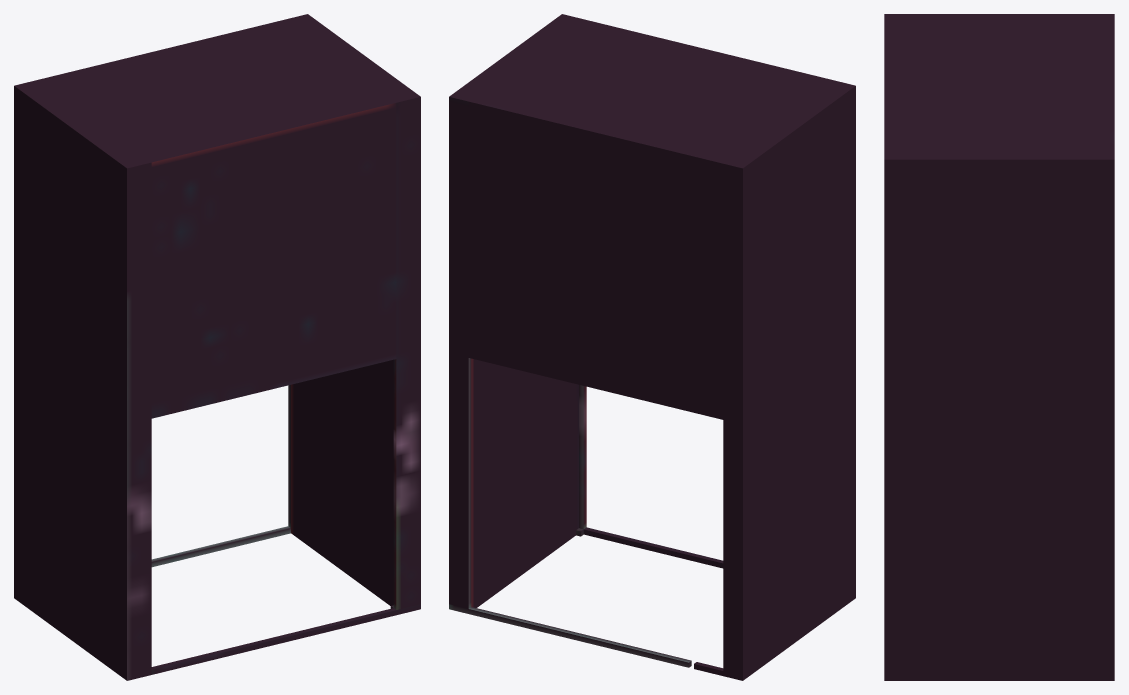
Rendered from BuildingModule_K_00.fbx.
3 renders of one model, left to right at view 1: azimuth 30°, elevation 25°; view 2: azimuth 150°, elevation 25°; view 3: azimuth 270°, elevation 25°, orthographic.
Visible parts, largest first — view 1: BuildingModule_K_00; view 2: BuildingModule_K_00; view 3: BuildingModule_K_00.
Part boxes in pixels (x1=…): BuildingModule_K_00: x1=14, y1=14, x2=420, y2=680; BuildingModule_K_00: x1=449, y1=14, x2=855, y2=680; BuildingModule_K_00: x1=884, y1=14, x2=1114, y2=680.
Bounding box in the file's own units: 300 × 500 × 200.
